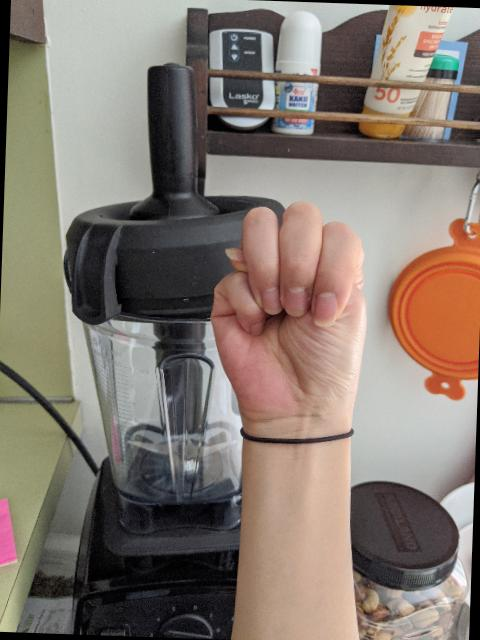M: (200, 192, 381, 432)
